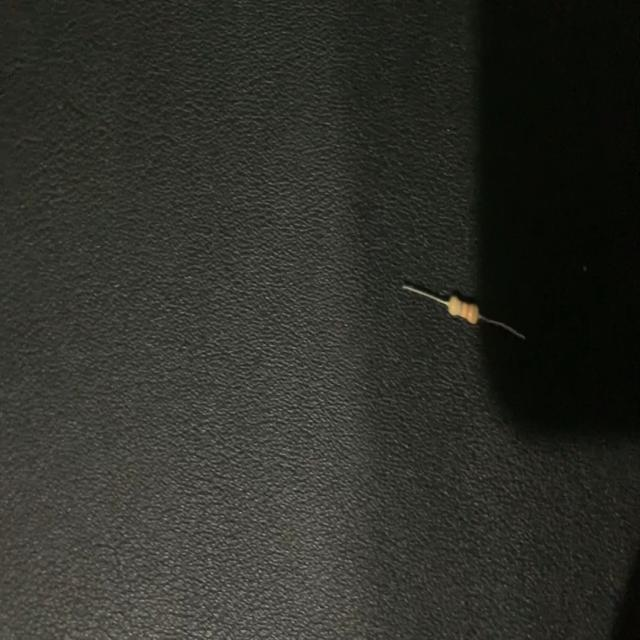resistor: (402, 280, 526, 344)
